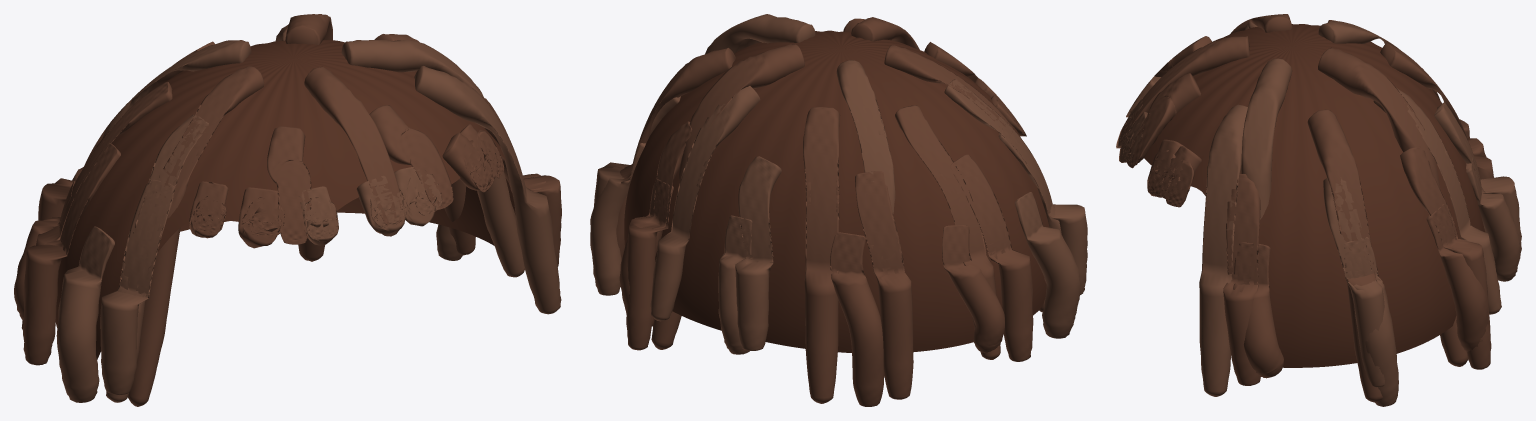
The model's file is Masculine-locs-beanie251-hair.glb.
3 views of the same model, side by side, from view 1: azimuth 30°, elevation 25°; view 2: azimuth 150°, elevation 25°; view 3: azimuth 270°, elevation 25° (orthographic). The views are drawn at different scales.
Parts seen in each view (by area): view 1: 226 hair / Hair / loc main251.001, 226 hair / Hair / loc accent251.001, 226 hair / Hair / recessed roots251.001; view 2: 226 hair / Hair / loc main251.001, 226 hair / Hair / recessed roots251.001, 226 hair / Hair / loc accent251.001; view 3: 226 hair / Hair / recessed roots251.001, 226 hair / Hair / loc main251.001, 226 hair / Hair / loc accent251.001.
Boxes of the visible parts, <box> form: 226 hair / Hair / loc main251.001: <box>14,14,561,406</box>; 226 hair / Hair / loc accent251.001: <box>56,25,561,402</box>; 226 hair / Hair / recessed roots251.001: <box>55,40,515,359</box>; 226 hair / Hair / loc main251.001: <box>616,17,1045,406</box>; 226 hair / Hair / recessed roots251.001: <box>624,30,1049,352</box>; 226 hair / Hair / loc accent251.001: <box>590,14,1087,354</box>; 226 hair / Hair / recessed roots251.001: <box>1144,24,1485,367</box>; 226 hair / Hair / loc main251.001: <box>1120,14,1493,402</box>; 226 hair / Hair / loc accent251.001: <box>1116,21,1521,406</box>.
Size of the model in its own units: 1.13 by 0.666 by 0.8683.
